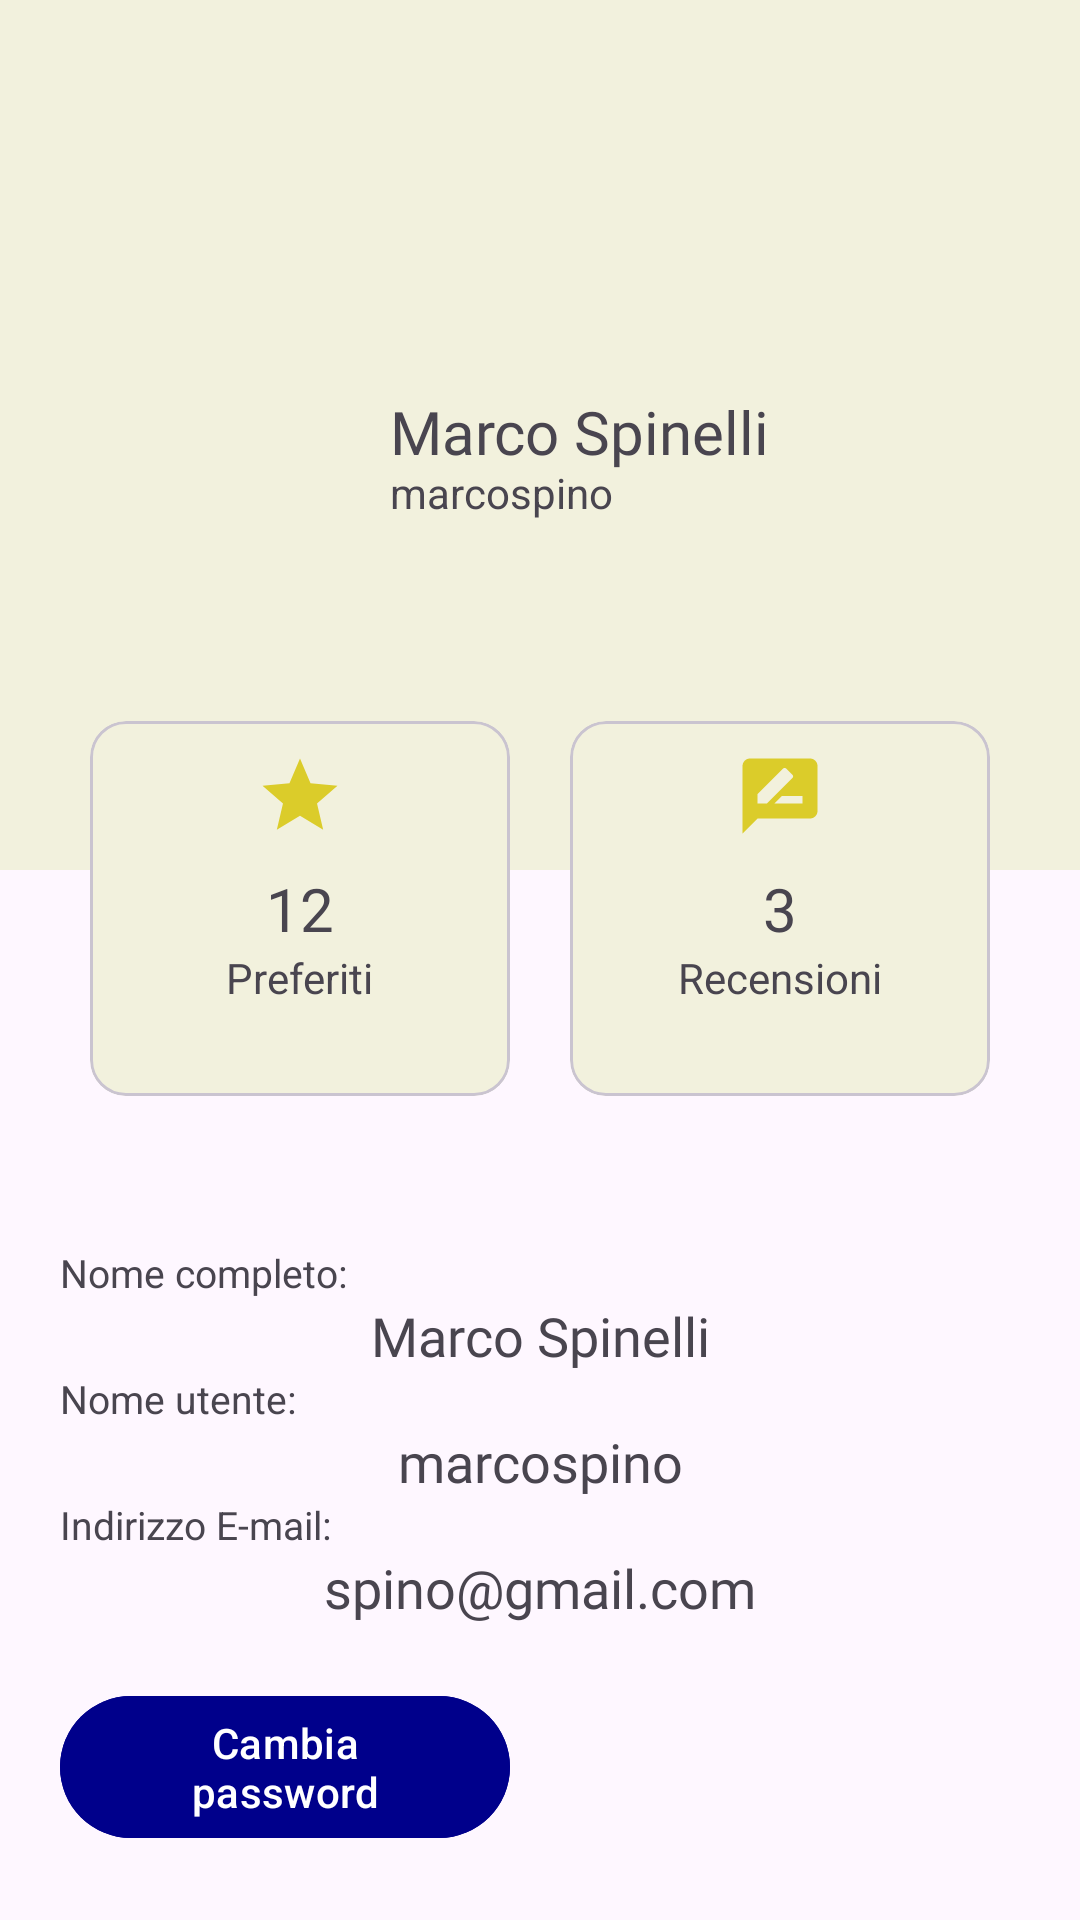

Screen size 1080x1920. Icon name, then its center in pixels as [x,y]:
rate review: [780,796]
